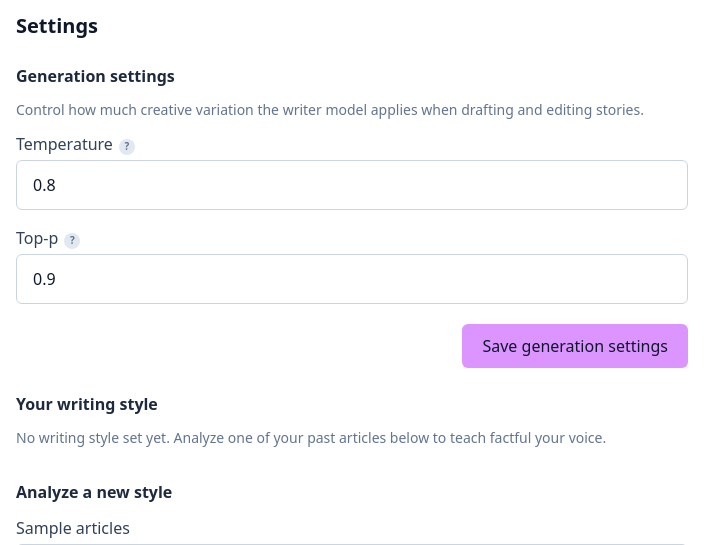
Test: Settings › saves generation settings
The image size is (706, 545).
Replace the text in the number field labelled "Temperature ?" with "0.5" at (352, 185), box [16,160,688,210]
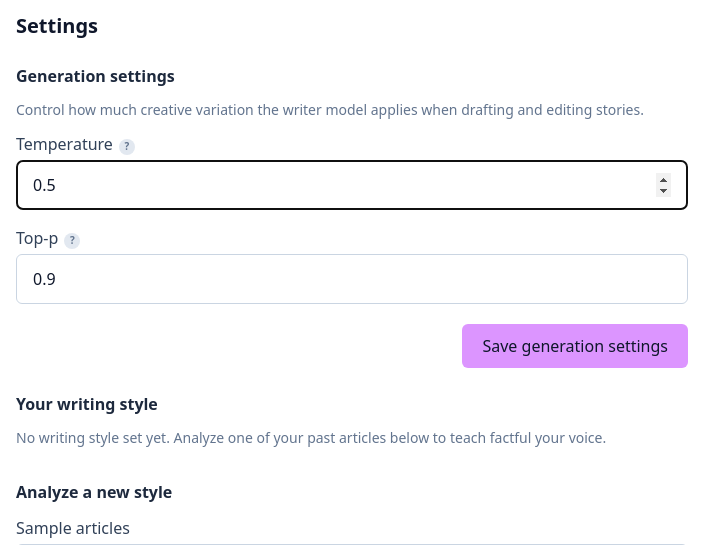
Replace the text in the number field labelled "Top-p ?" with "0.8" at (352, 279), box [16,254,688,304]
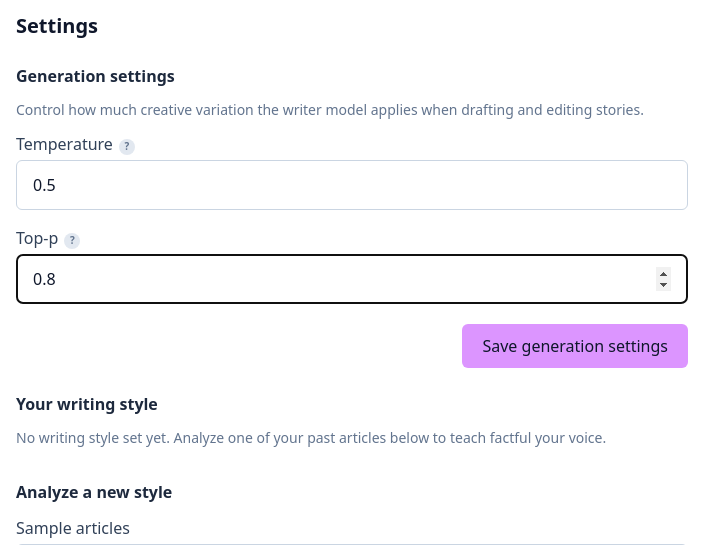
Click the button "Save generation settings" at (575, 346), box [462,324,688,368]
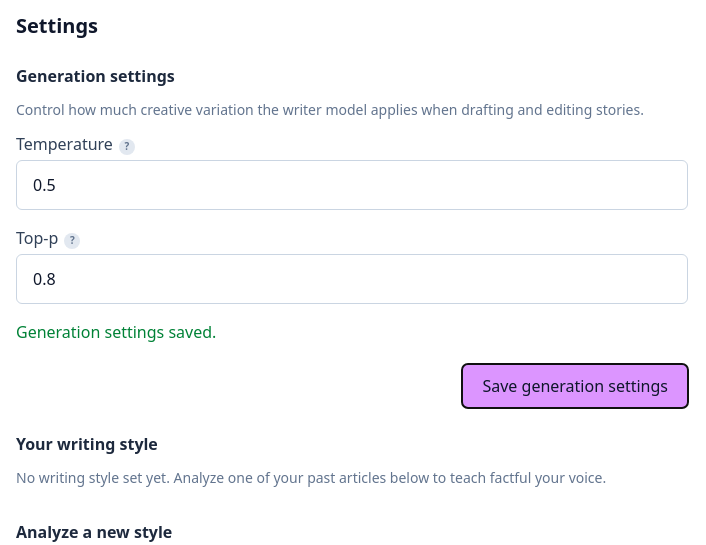
Expected: the text "Generation settings saved." is shown, [16,321,216,343]
